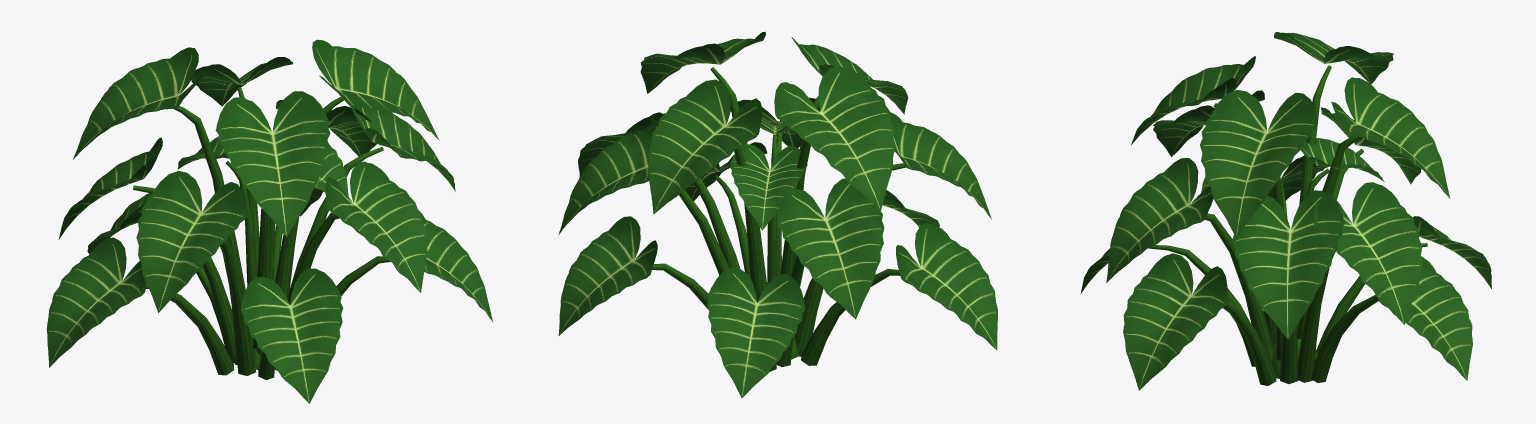
3 views of the same model, side by side, from view 1: azimuth 30°, elevation 25°; view 2: azimuth 150°, elevation 25°; view 3: azimuth 270°, elevation 25° (orthographic).
Parts seen in each view (by area): view 1: Mesh_AlocasiaLeaves, Mesh_AlocasiaStems; view 2: Mesh_AlocasiaLeaves, Mesh_AlocasiaStems; view 3: Mesh_AlocasiaLeaves, Mesh_AlocasiaStems.
Boxes of the visible parts, x1,y1,x2,y2 form: Mesh_AlocasiaLeaves: (46, 39, 492, 403); Mesh_AlocasiaStems: (133, 87, 390, 380); Mesh_AlocasiaLeaves: (558, 31, 997, 398); Mesh_AlocasiaStems: (652, 67, 906, 371); Mesh_AlocasiaLeaves: (1080, 32, 1491, 390); Mesh_AlocasiaStems: (1148, 65, 1427, 385).
Bounding box in the file's own units: 2.19 × 1.56 × 2.02.
Materials: 2 (2 with a texture image).
